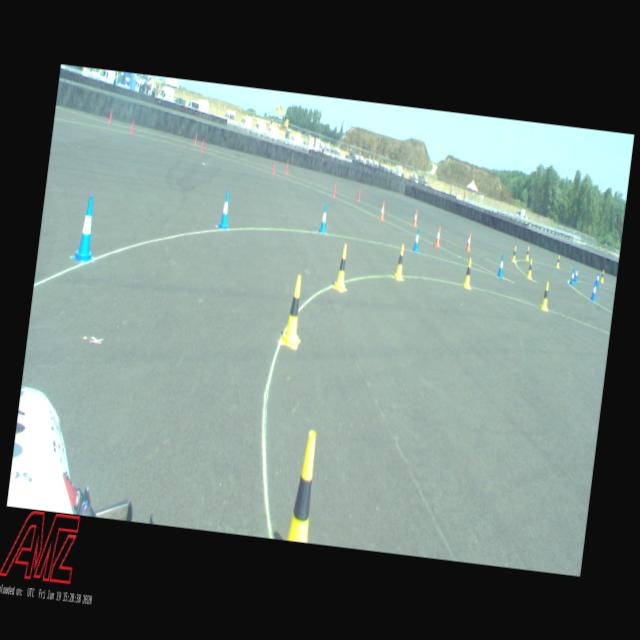blue_cone: (72, 193, 99, 260), (216, 190, 232, 230), (318, 204, 328, 233), (412, 227, 421, 252), (496, 254, 504, 277), (590, 280, 597, 300), (568, 268, 574, 286), (573, 266, 579, 282), (594, 271, 600, 286)
orange_cone: (434, 226, 442, 247), (464, 232, 472, 250), (379, 201, 385, 220), (412, 210, 418, 226)
unknown_cone: (200, 138, 205, 152), (356, 188, 361, 201), (332, 182, 336, 198), (130, 118, 134, 134), (108, 110, 113, 122), (271, 161, 275, 174), (194, 132, 198, 144), (285, 162, 289, 174)
yellow_cone: (286, 428, 320, 542), (280, 274, 308, 349), (334, 243, 351, 290), (394, 243, 406, 280), (462, 256, 474, 288), (540, 281, 550, 311), (526, 258, 534, 278), (510, 246, 518, 262), (524, 246, 530, 260), (556, 255, 560, 268), (600, 269, 604, 282)
